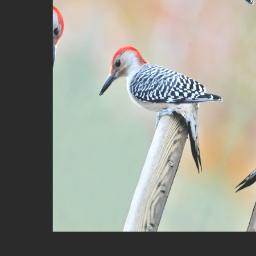Woodpecker: (85, 29, 237, 185)
